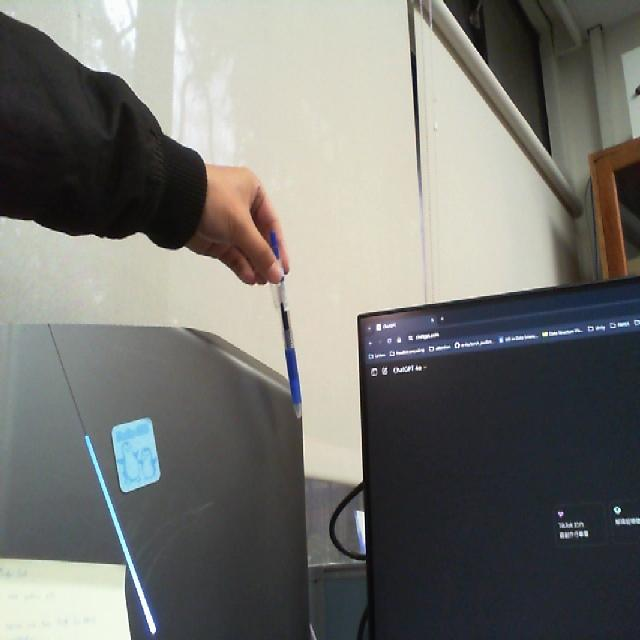Pen: (258, 220, 307, 440)
